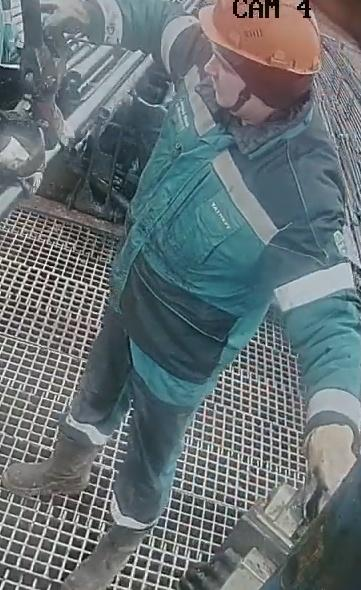gloves: (299, 402, 361, 522), (33, 0, 111, 35)
helmet: (197, 0, 322, 75)
vest: (107, 65, 356, 385)
